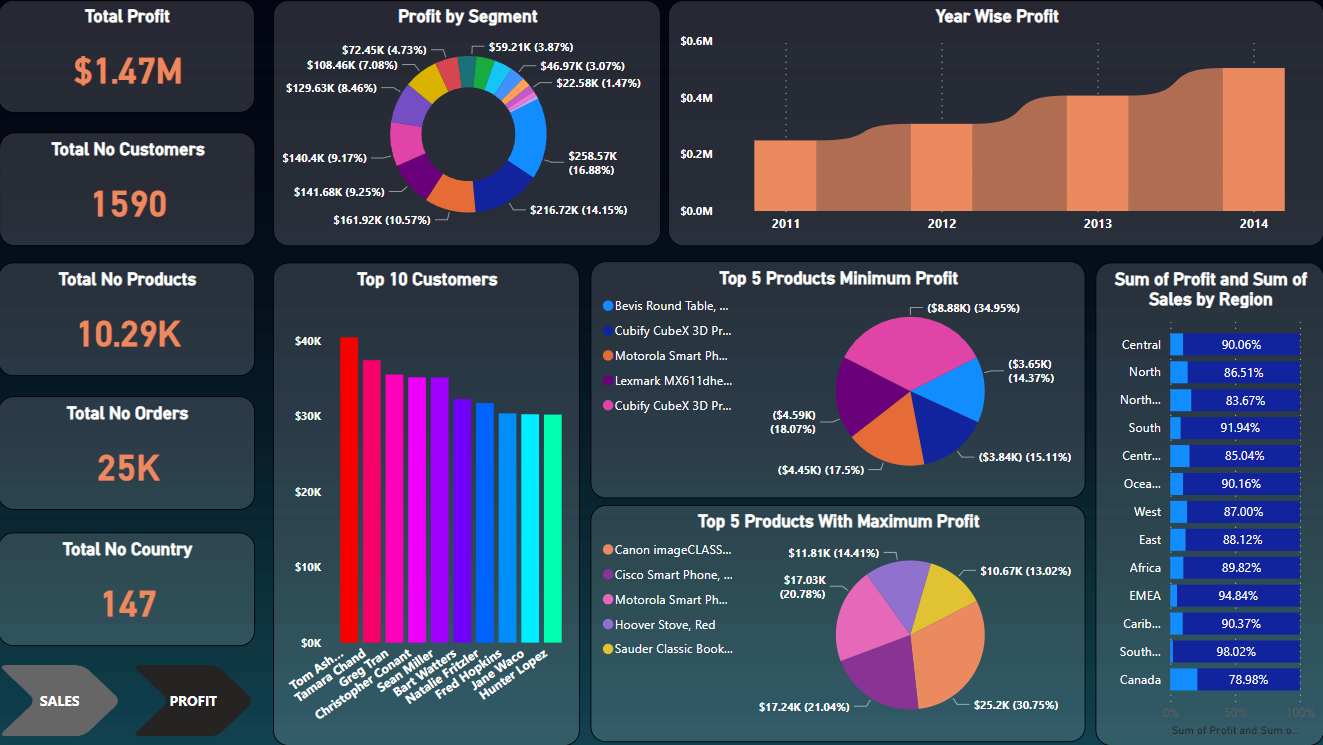

Layout of this report page (visuals, bound fields, positions):
{"tool":"powerbi","page":{"name":"PROFIT","canvas":[1280,720],"ordinal":1},"visuals":[{"type":"ribbonChart","title":"Year Wise Profit","fields":{"Category":["Orders.Order Date.Variation.Date Hierarchy.Year"],"Y":["Orders.Profit"]},"box":[646.3,0,634,237.4],"z":0},{"type":"columnChart","title":"Top 10 Customers","fields":{"Category":["Orders.Customer Name"],"Y":["Orders.Sales"]},"box":[264.8,253.9,296.4,466.6],"z":1000},{"type":"card","title":"Total Profit","fields":{"Values":["Orders.Profit"]},"box":[0,0,248.4,108.4],"z":2000},{"type":"card","title":"Total No Customers","fields":{"Values":["Orders.Customer ID"]},"box":[1.4,127.6,247,109.8],"z":3000},{"type":"card","title":"Total No Orders","fields":{"Values":["Orders.Order ID"]},"box":[0,382.8,248.4,109.8],"z":4000},{"type":"donutChart","title":"Profit by Segment","fields":{"Category":["Orders.Sub-Category"],"Y":["Orders.Profit"]},"box":[264.8,0,374.6,237.4],"z":5000},{"type":"pageNavigator","box":[0,642.2,248,70],"z":6000},{"type":"card","title":"Total No Products","fields":{"Values":["Orders.Product ID"]},"box":[0,253.9,248.4,109.8],"z":7000},{"type":"card","title":"Total No Country","fields":{"Values":["Orders.Country"]},"box":[0,513.2,248.4,109.8],"z":8000},{"type":"pieChart","title":"Top 5 Products With Maximum Profit","fields":{"Category":["Orders.Product Name"],"Y":["Orders.Profit"]},"box":[572.2,487.1,477.5,229.2],"z":9000},{"type":"pieChart","title":"Top 5 Products Minimum Profit","fields":{"Category":["Orders.Product Name"],"Y":["Orders.Profit"]},"box":[572.2,252.5,477.5,229.2],"z":10000},{"type":"hundredPercentStackedBarChart","fields":{"Category":["Orders.Region"],"Y":["Orders.Profit","Orders.Sales"]},"box":[1059.4,253.9,220.9,466.6],"z":11000}]}

Visuals, with their boxes in screenshot pixels (x1, y1, x2, y2), scaled from the page's 1280x720 canvas onto the 1323x745 screenshot:
"Year Wise Profit" ribbonChart: (668,0,1322,246)
"Top 10 Customers" columnChart: (274,263,580,744)
"Total Profit" card: (0,0,257,112)
"Total No Customers" card: (1,132,257,246)
"Total No Orders" card: (0,396,257,510)
"Profit by Segment" donutChart: (274,0,661,246)
pageNavigator: (0,664,256,737)
"Total No Products" card: (0,263,257,376)
"Total No Country" card: (0,531,257,645)
"Top 5 Products With Maximum Profit" pieChart: (591,504,1085,741)
"Top 5 Products Minimum Profit" pieChart: (591,261,1085,498)
hundredPercentStackedBarChart - Orders.Region x Orders.Profit: (1095,263,1322,744)
